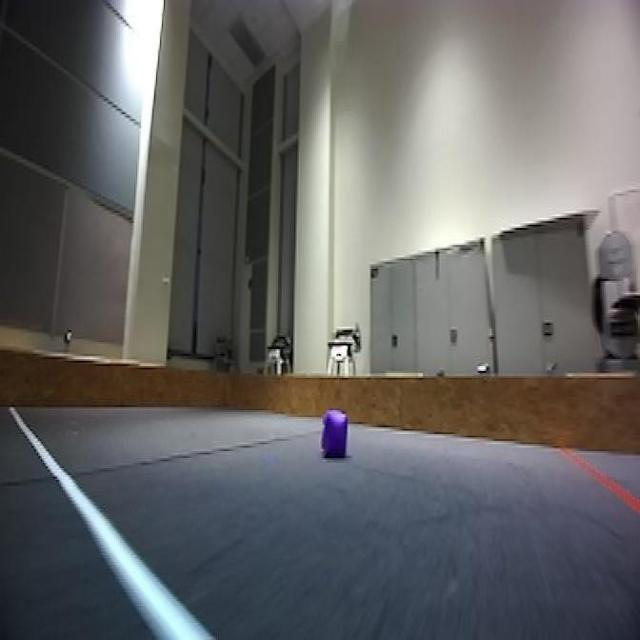frc_cube: (320, 410, 350, 461)
